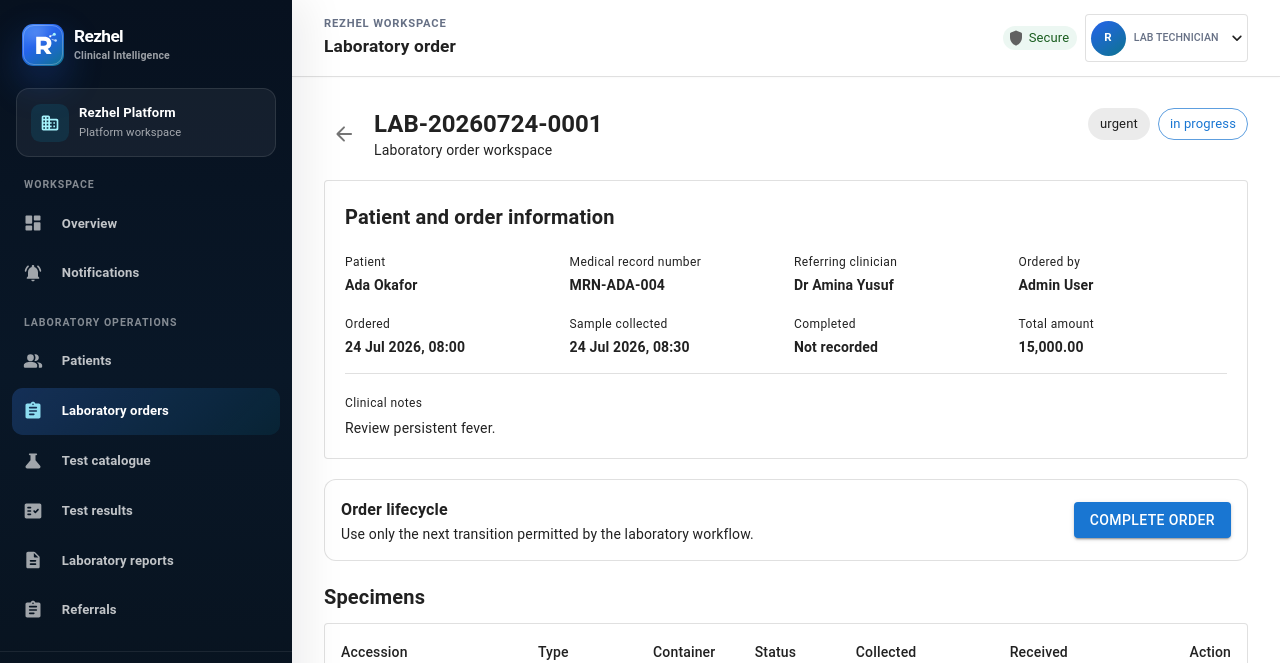
it: laboratory order lifecycle transitions › surfaces backend completion eligibility errors
This screenshot has width=1280, height=663.
What coordinates should you click on to do the following:
click the button "Complete order"
I would click on:
 (1152, 520)
Its box is x1=1074 y1=502 x2=1231 y2=538.
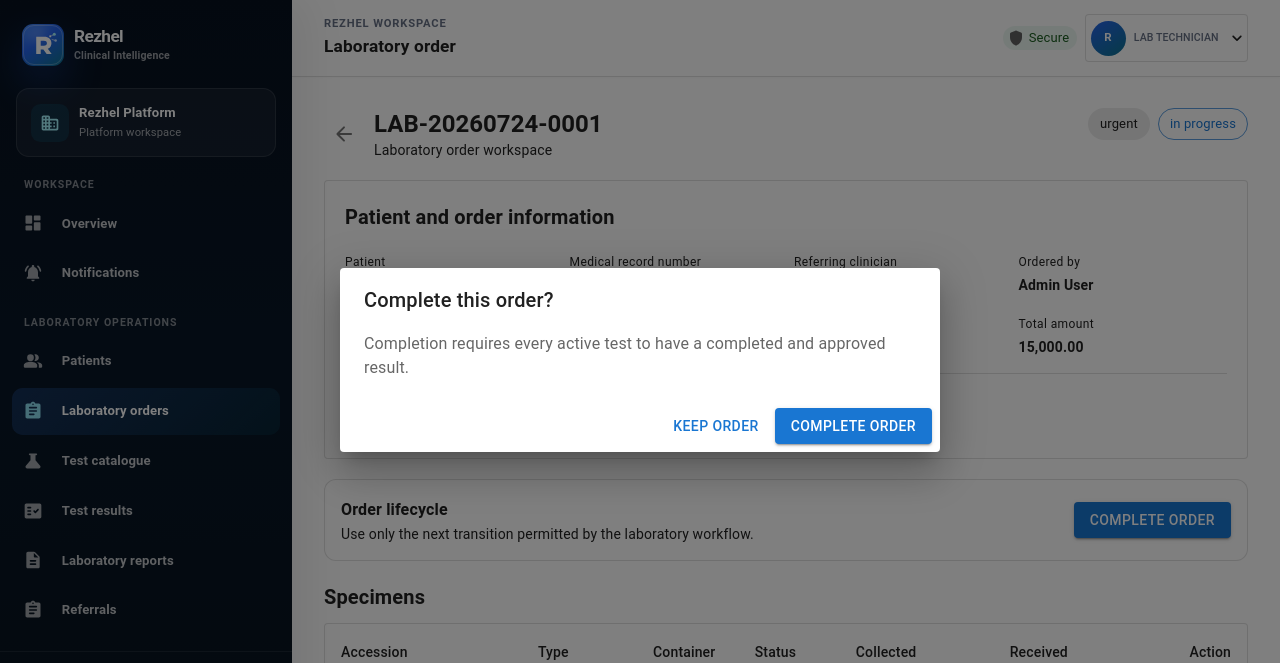
What coordinates should you click on to do the following:
click the button "Complete order"
I would click on:
 (853, 426)
Its box is x1=775 y1=408 x2=932 y2=444.
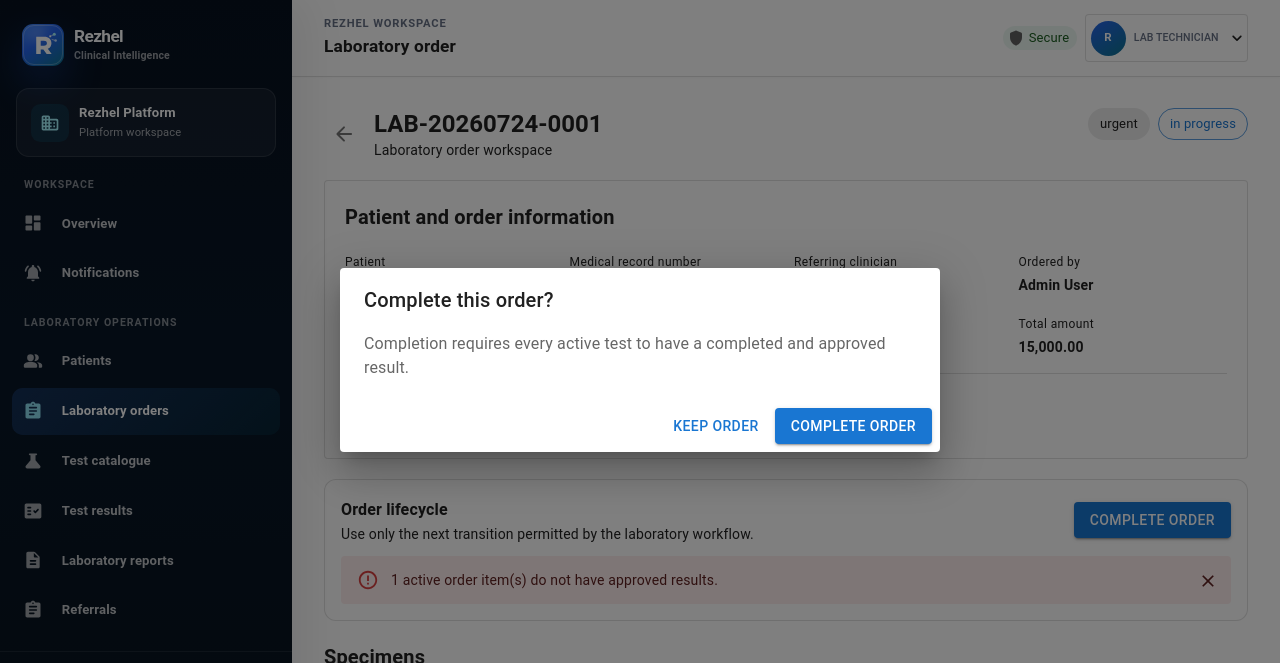
Result: the text "1 active order item(s) do not have approved results." is shown at x1=391 y1=572 x2=718 y2=588
